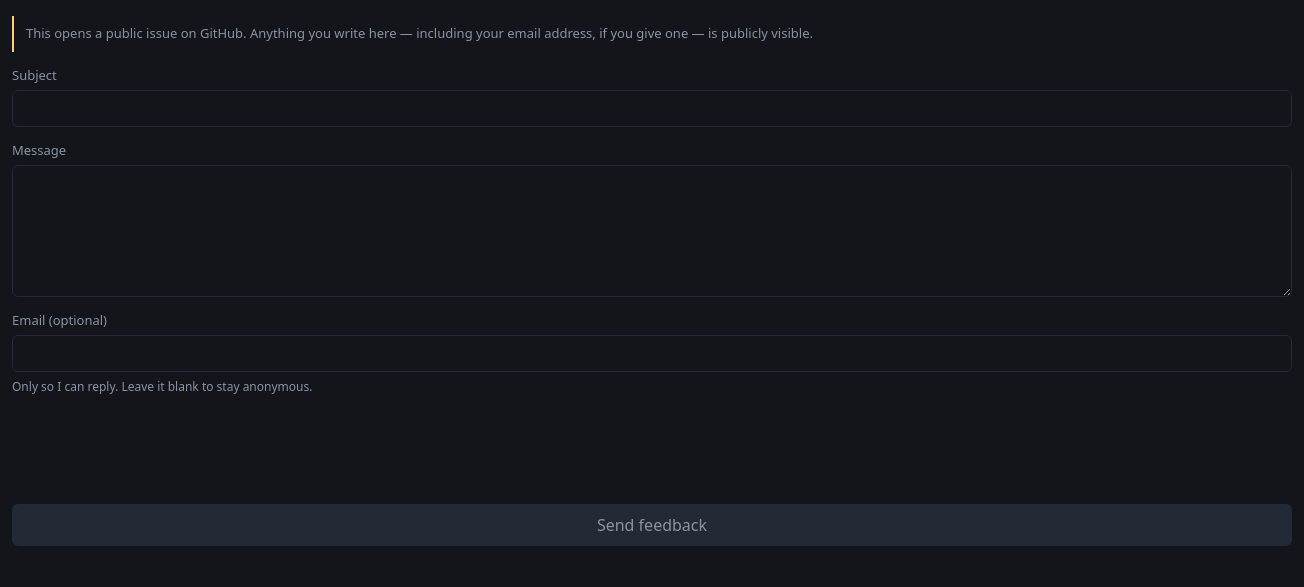
it: FeedbackForm › surfaces the 403 (captcha_failed) message as a single alert
Type "Cadence panel is blank" into the field labelled "Subject" at (652, 108), box 12,90 -> 1292,126
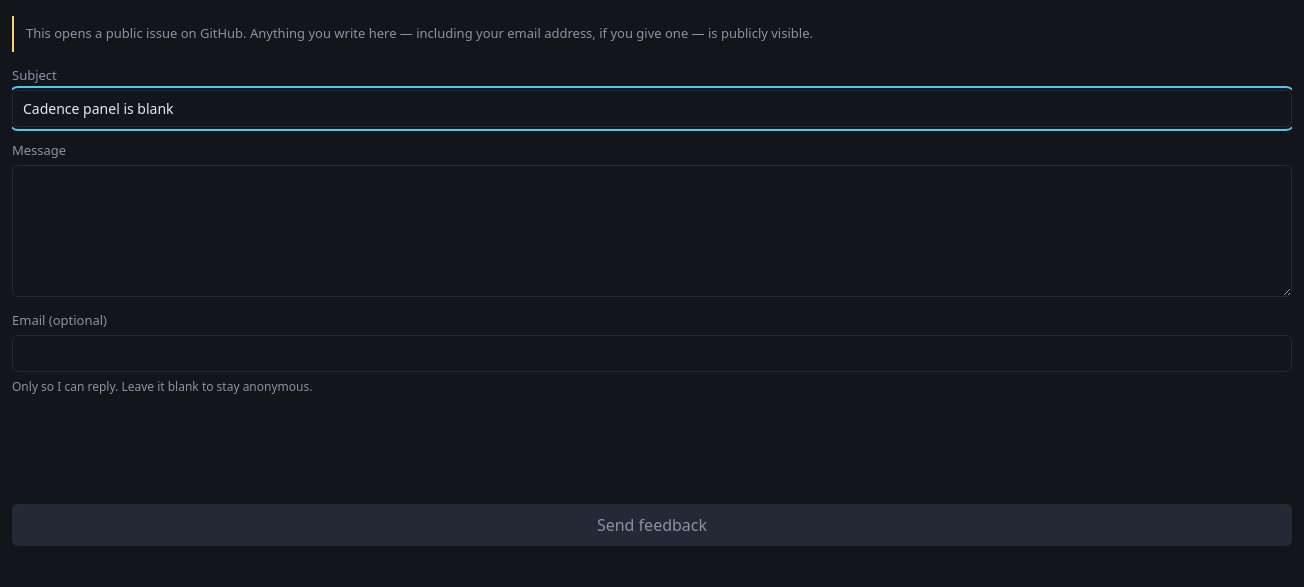
Type "The cadence chart renders nothing." into the text box labelled "Message" at (652, 230), box 12,164 -> 1292,296
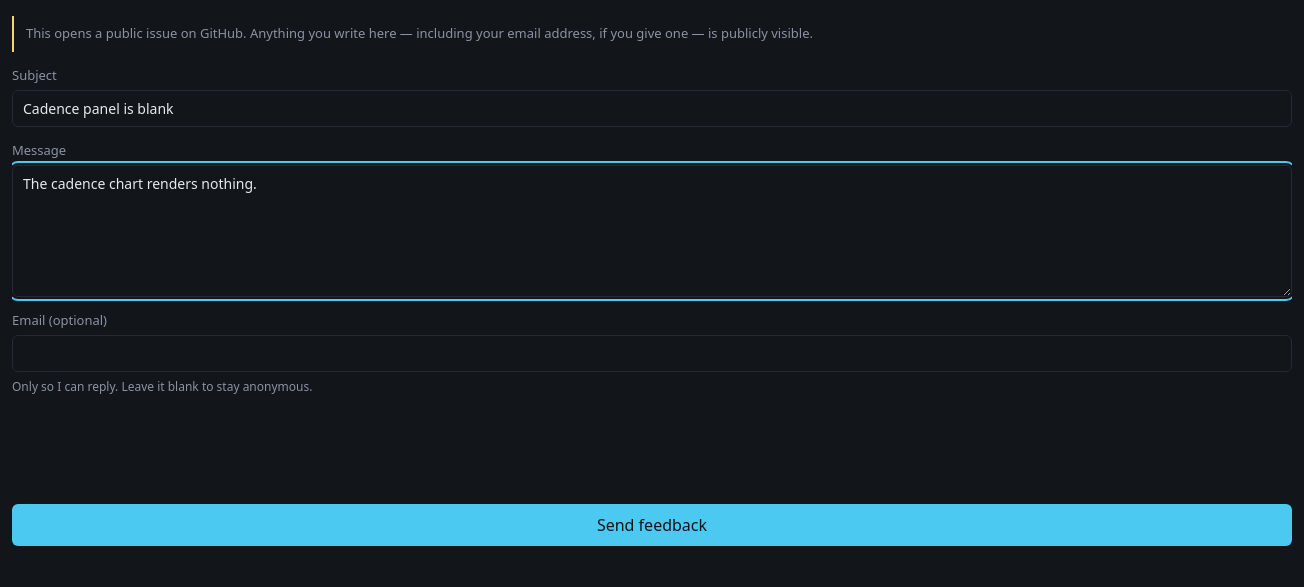
Click the button "Send feedback" at (652, 524), box 12,504 -> 1292,546
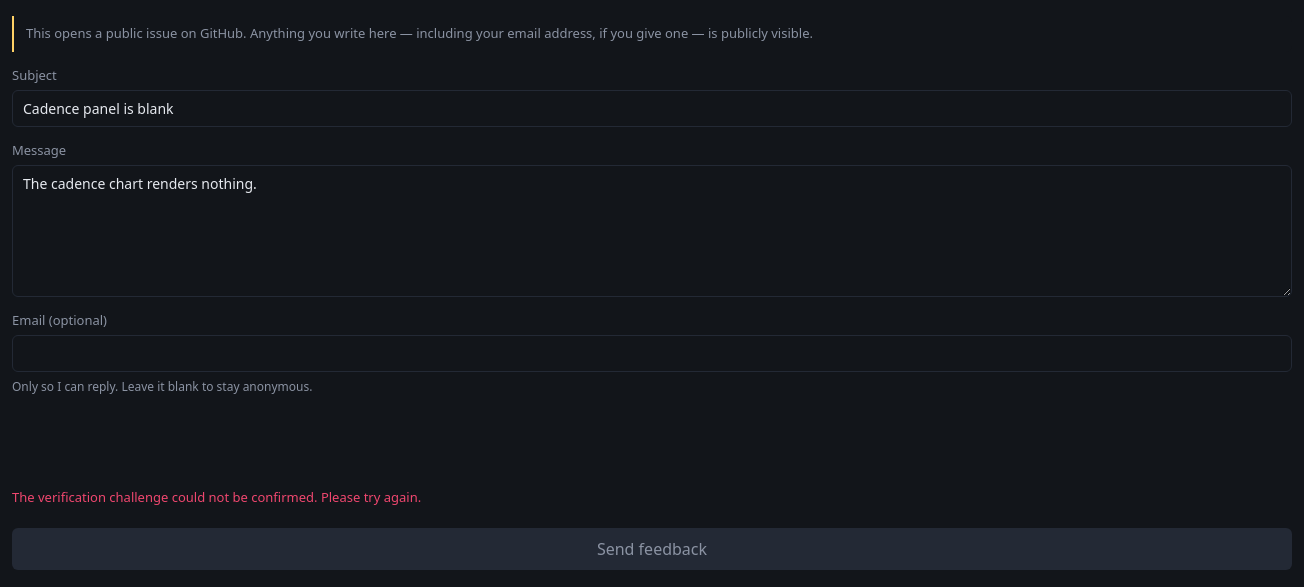
Expected: the message reads "The verification challenge could not be confirmed. Please try again.", 12,488 -> 421,506
